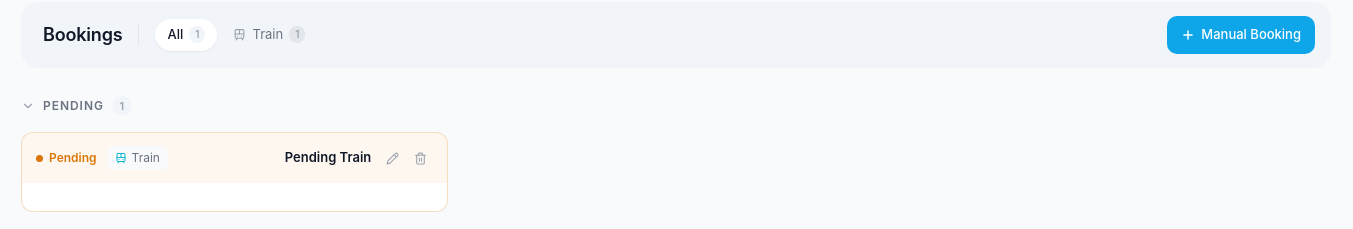
Test: ReservationsPanel › FE-PLANNER-RESP-017: clicking Pending section header again expands it
Click the button "Pending 1". click: (73, 105)
box: [21,92,1331,120]
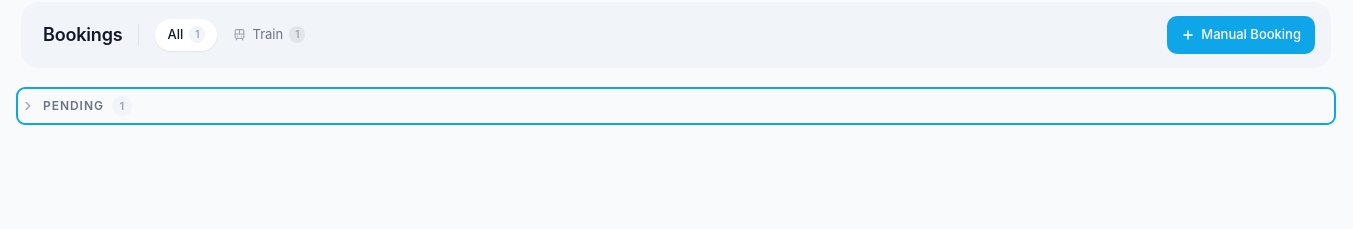
Check: the text "Pending Train" is gone
Click the button "Pending 1". click: (73, 105)
box: [21,92,1331,120]
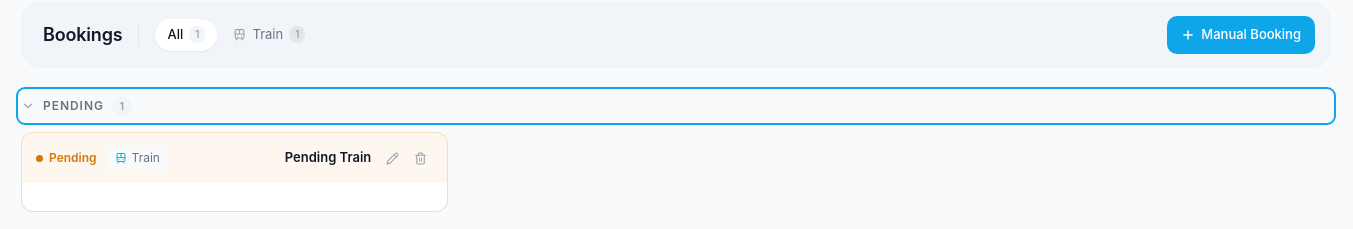
Check: the text "Pending Train" is shown, box [285,148,371,168]
